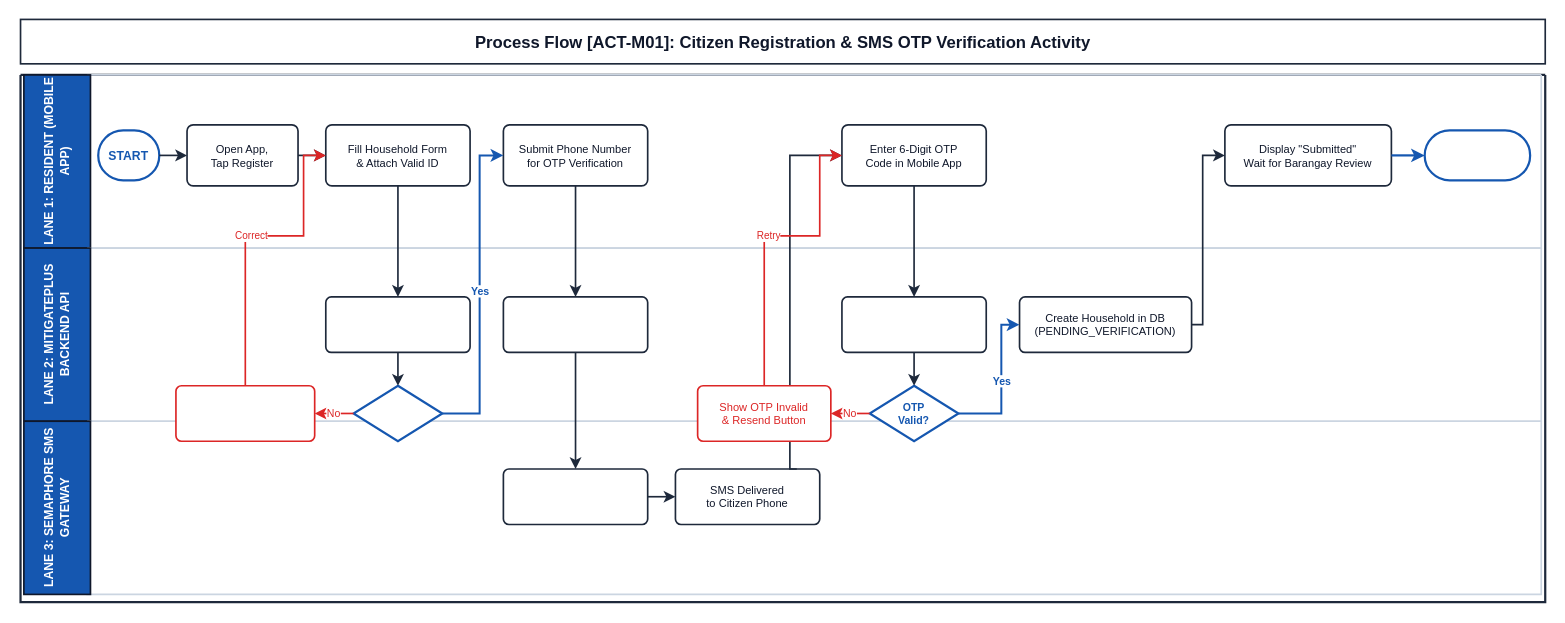
The diagram is 1565 pixels wide and 623 high, and some of its shapes have lost their labels. Here are the shapes that lost their labels. From the top down, the centre of each, then its label:
the point at 1477,155: END (Pending)
the point at 397,324: Validate Form Fields & Barangay Scope
the point at 575,324: Generate 6-Digit OTP (Crypto, 5-min exp)
the point at 914,324: Verify OTP Match & Expiration
the point at 245,413: Show Validation Error & Highlight Field
the point at 397,413: Form Valid?
the point at 575,496: Dispatch OTP via Semaphore SMS API
